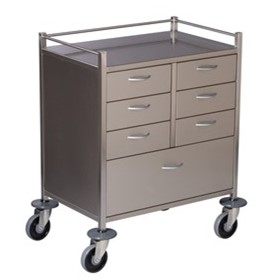Carts: (26, 14, 250, 272)
